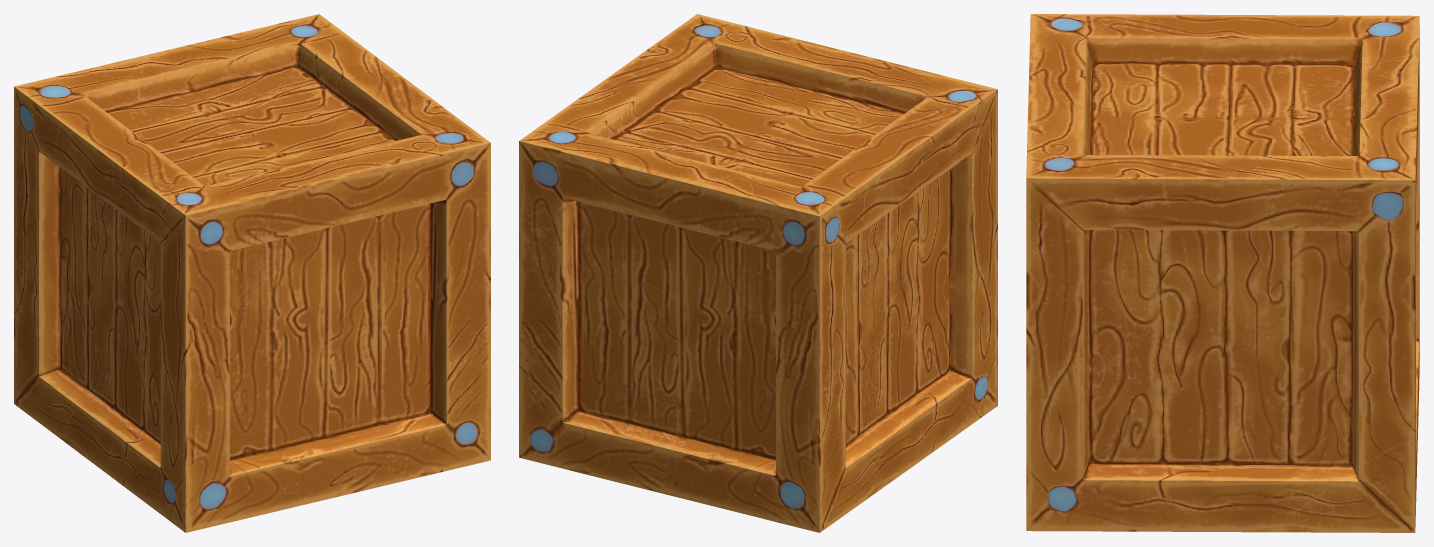
File: Caisse.fbx
The picture shows the model from 3 angles, left to right: view 1: azimuth 30°, elevation 25°; view 2: azimuth 150°, elevation 25°; view 3: azimuth 270°, elevation 25°; orthographic projection. The views are drawn at different scales.
Visible parts, largest first — view 1: Wood_Box_low.002_Cube.004; view 2: Wood_Box_low.002_Cube.004; view 3: Wood_Box_low.002_Cube.004.
Boxes of the visible parts, x1=… form: Wood_Box_low.002_Cube.004: x1=14, y1=14, x2=490, y2=532; Wood_Box_low.002_Cube.004: x1=519, y1=14, x2=997, y2=532; Wood_Box_low.002_Cube.004: x1=1026, y1=14, x2=1419, y2=532.
Size of the model in its own units: 179 by 177 by 179.
